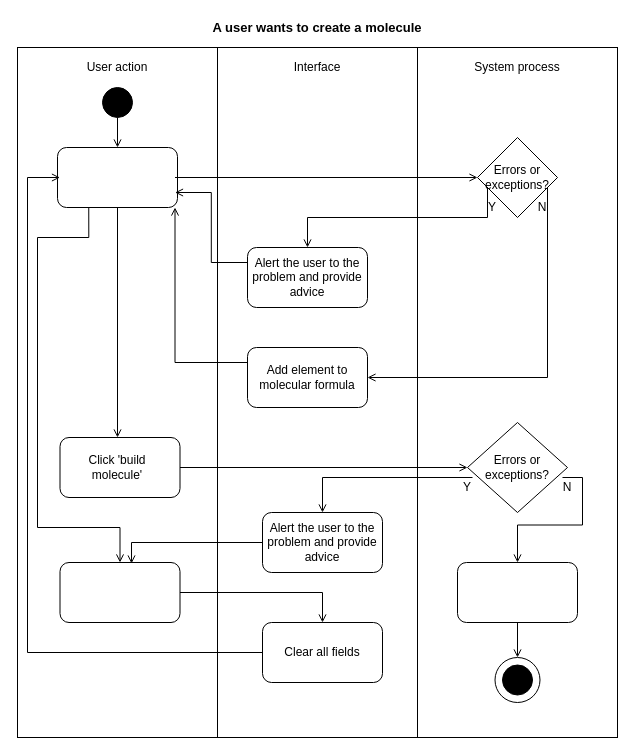
This 635x755 diagram has some shape labels left out. Each missing label, with the box of its shape:
Click 'clear': (59, 562, 180, 622)
Click on element on periodic table: (56, 146, 178, 208)
Create an instance of the molecule class: (456, 562, 578, 622)
